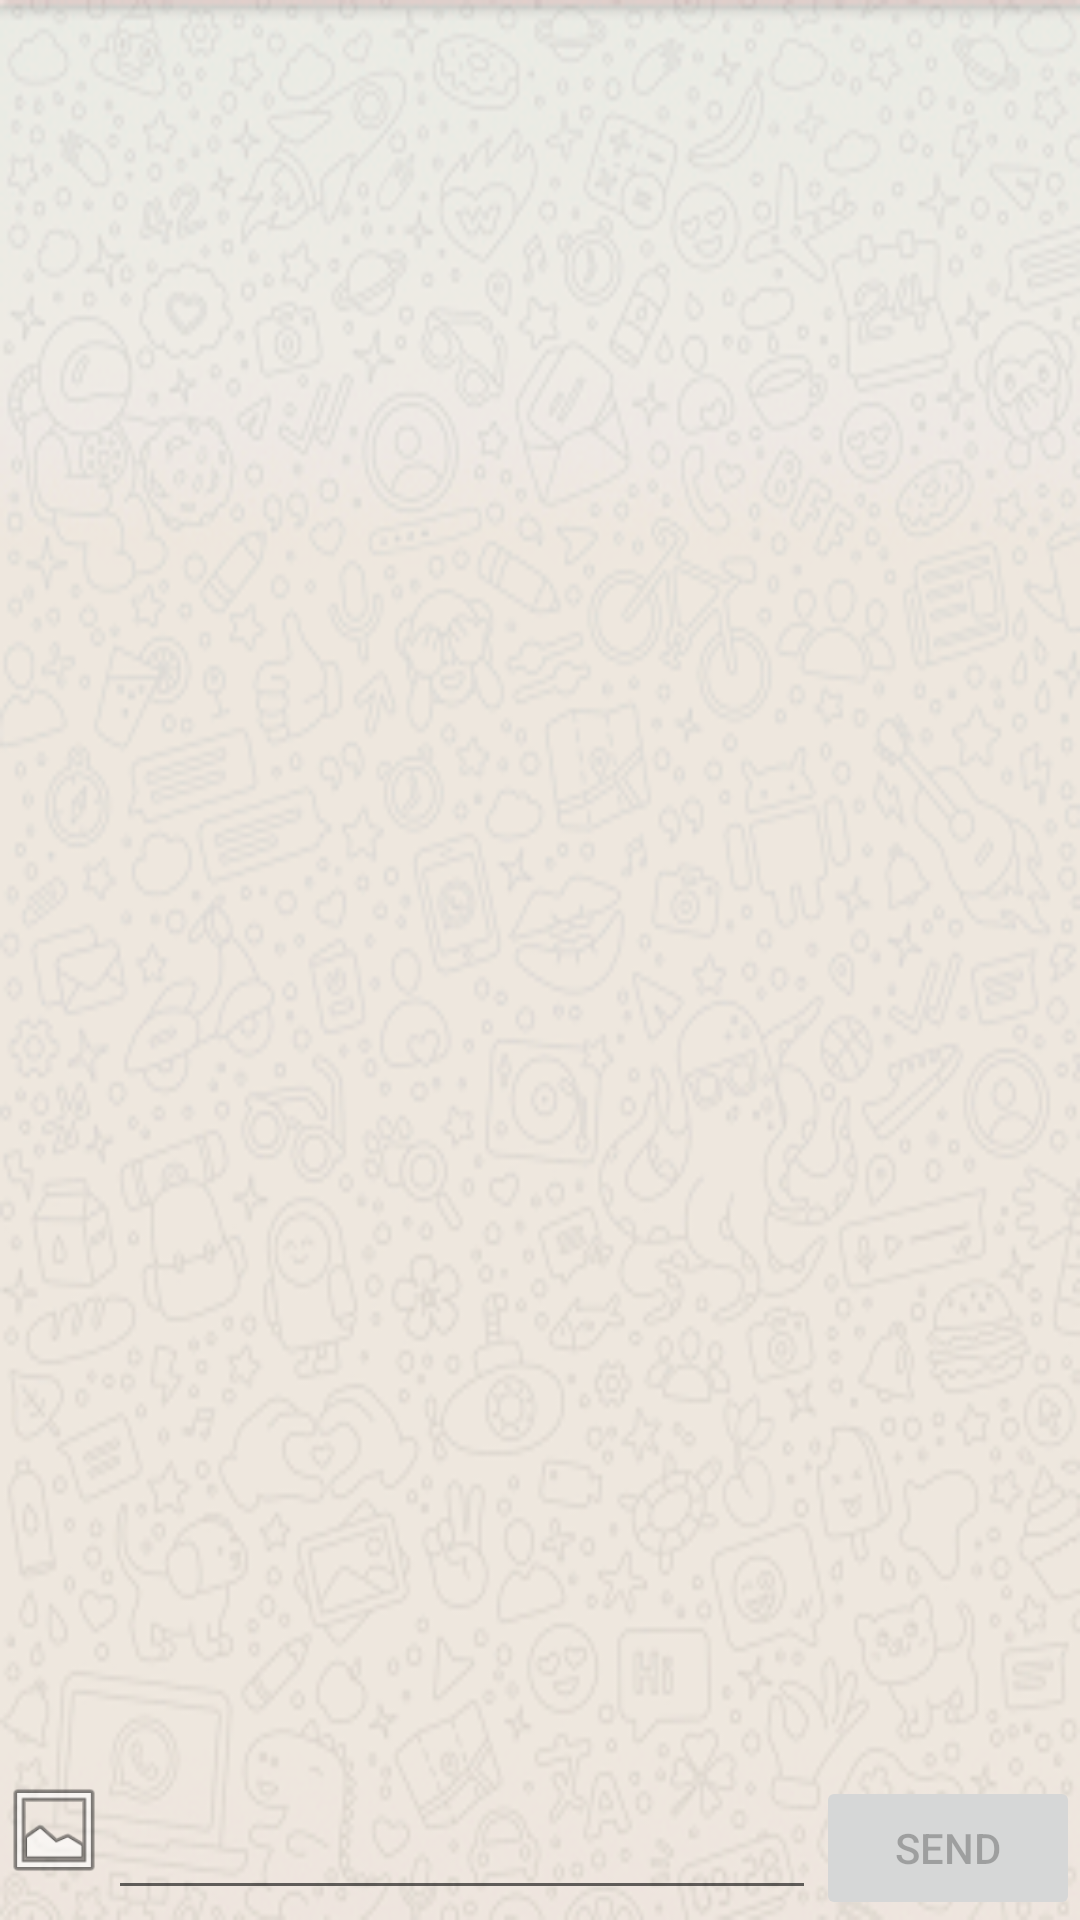

Screen size 1080 × 1920. Icon name, then its center in pixels as (x=x, y=y):
gallery: (x=54, y=1830)
